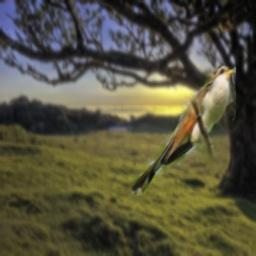Cuckoo: (131, 66, 236, 196)
